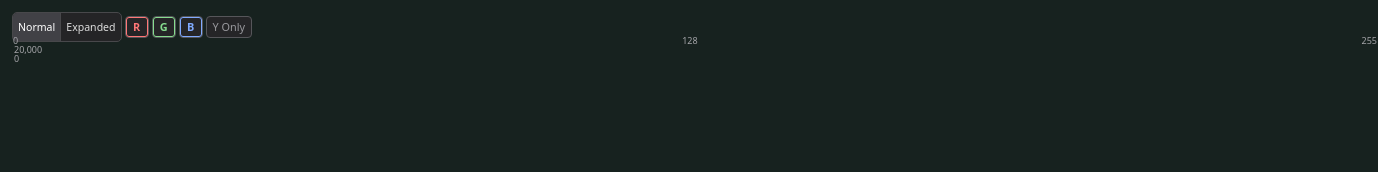
Test: ScopePanel › clips extreme black and white peaks at the expanded plot ceiling without mutating data
Click the button with class "histogram-scale-toggle".
click(67, 27)  # box [12,12,122,42]
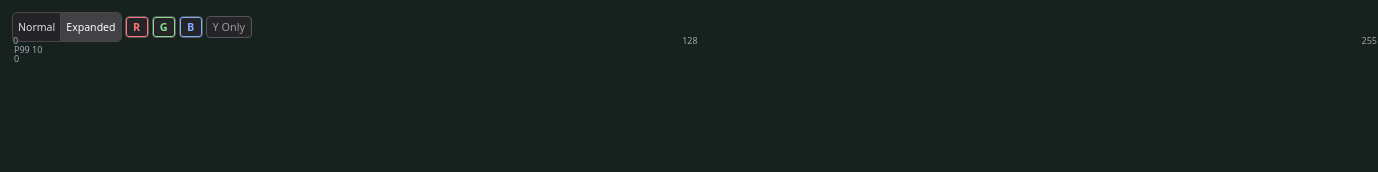
Now the text "P99 10" is shown, box [14,45,42,54]
